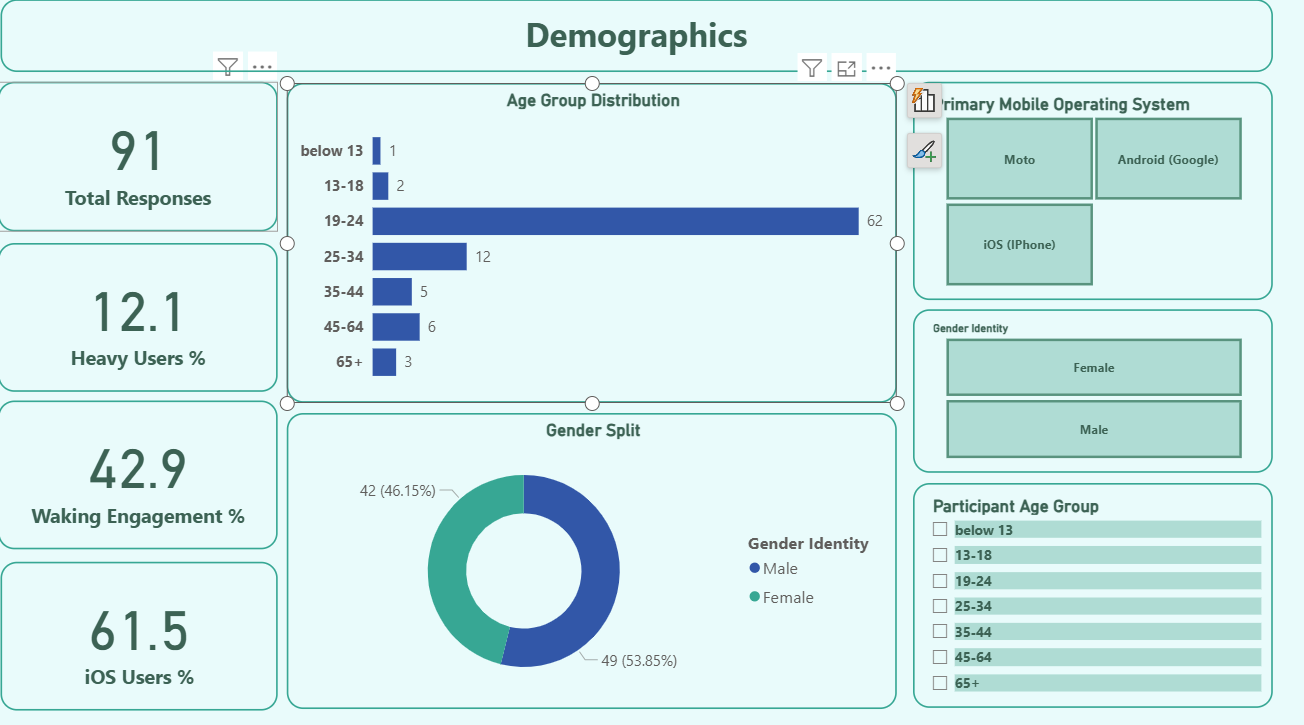

What the dashboard file says about the page in this screenshot:
{"tool":"powerbi","page":{"name":"Demographics","canvas":[1280,720],"ordinal":0},"visuals":[{"type":"barChart","title":"Age Group Distribution","fields":{"Category":["Form responses 1.Participant Age Group"],"Y":["Form responses 1.Total Responses"]},"box":[282.5,88,596.7,313],"z":0},{"type":"donutChart","title":"Gender Split","fields":{"Category":["Form responses 1.Gender Identity"],"Y":["Form responses 1.Total Responses"]},"box":[282.7,410.9,596.7,289.8],"z":1000},{"type":"slicer","fields":{"Values":["Form responses 1.Participant Age Group"]},"box":[895.1,479.4,352.2,220.1],"z":2000},{"type":"slicer","fields":{"Values":["Form responses 1.Gender Identity"]},"box":[895.1,309.4,352.2,160.2],"z":3000},{"type":"slicer","title":"kkkk","fields":{"Values":["Form responses 1.Primary Mobile Operating System"]},"box":[895.4,86.9,352.1,213.8],"z":4000},{"type":"card","fields":{"Values":["Form responses 1.Total Responses"]},"box":[0,86.8,273.9,146.7],"z":5000},{"type":"card","fields":{"Values":["Form responses 1.Heavy Users %"]},"box":[0,244.6,273.9,145.5],"z":6000},{"type":"card","fields":{"Values":["Form responses 1.iOS Users %"]},"box":[2.4,556.4,271.5,145.5],"z":7000},{"type":"card","fields":{"Values":["Form responses 1.Waking Engagement %"]},"box":[0,398.6,273.9,145.5],"z":8000},{"type":"textbox","box":[2.4,6.1,1244.8,70.9],"z":9000}]}

Visuals, with their boxes in screenshot pixels (x1, y1, x2, y2), scaled from the page's 1280x720 canvas onto the 1304x725 screenshot:
"Age Group Distribution" barChart: {"left": 288, "top": 89, "right": 896, "bottom": 404}
"Gender Split" donutChart: {"left": 288, "top": 414, "right": 896, "bottom": 706}
slicer - Form responses 1.Participant Age Group: {"left": 912, "top": 483, "right": 1271, "bottom": 704}
slicer - Form responses 1.Gender Identity: {"left": 912, "top": 312, "right": 1271, "bottom": 473}
"kkkk" slicer: {"left": 912, "top": 88, "right": 1271, "bottom": 303}
card - Form responses 1.Total Responses: {"left": 0, "top": 87, "right": 279, "bottom": 235}
card - Form responses 1.Heavy Users %: {"left": 0, "top": 246, "right": 279, "bottom": 393}
card - Form responses 1.iOS Users %: {"left": 2, "top": 560, "right": 279, "bottom": 707}
card - Form responses 1.Waking Engagement %: {"left": 0, "top": 401, "right": 279, "bottom": 548}
textbox: {"left": 2, "top": 6, "right": 1271, "bottom": 78}
